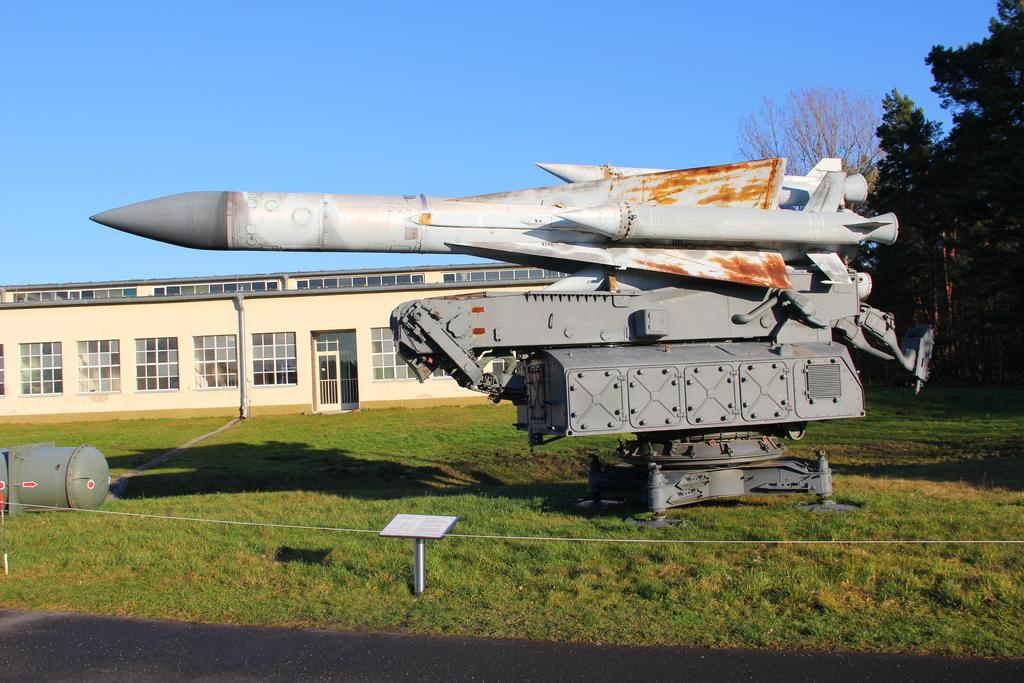Missile: (95, 124, 947, 504)
